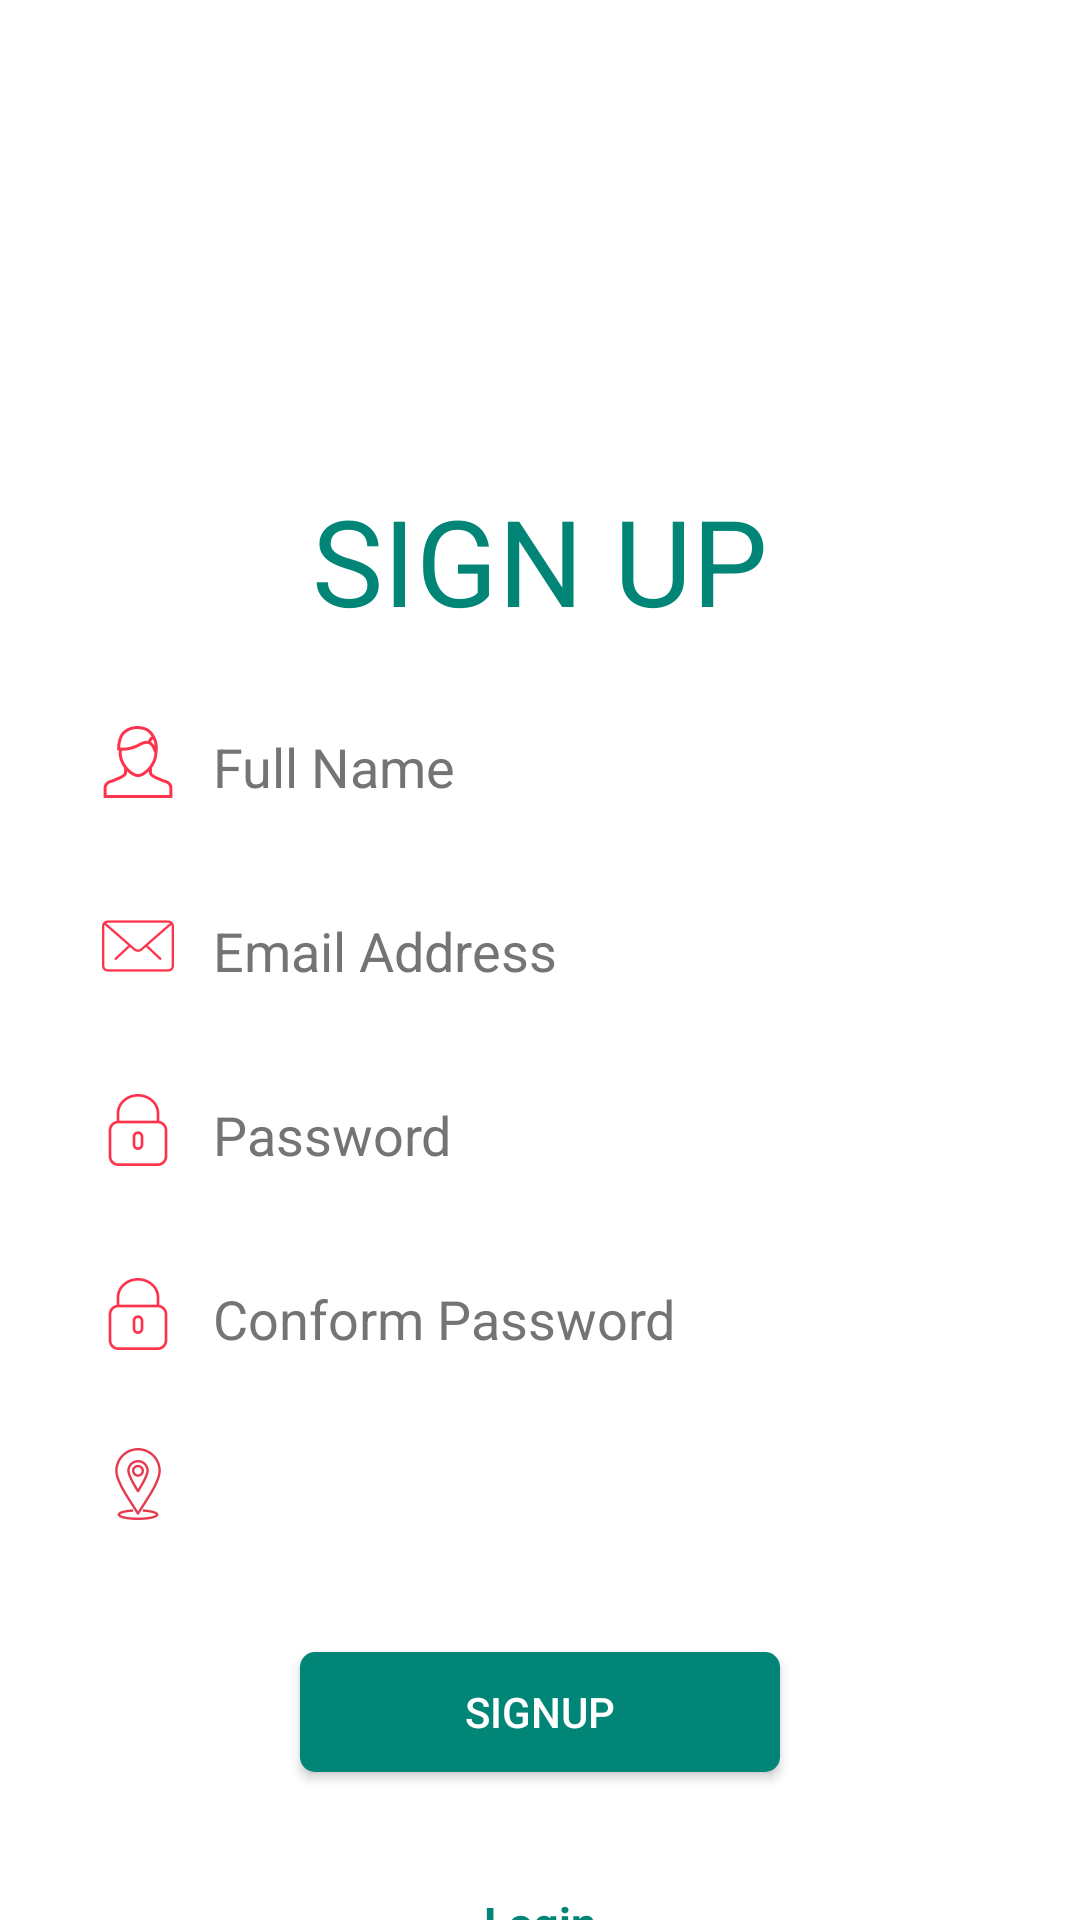

Point at icon controls on the screen. Image size 1080 x 1920, points as [x,y].
location: [138,1484]
user: [138,762]
